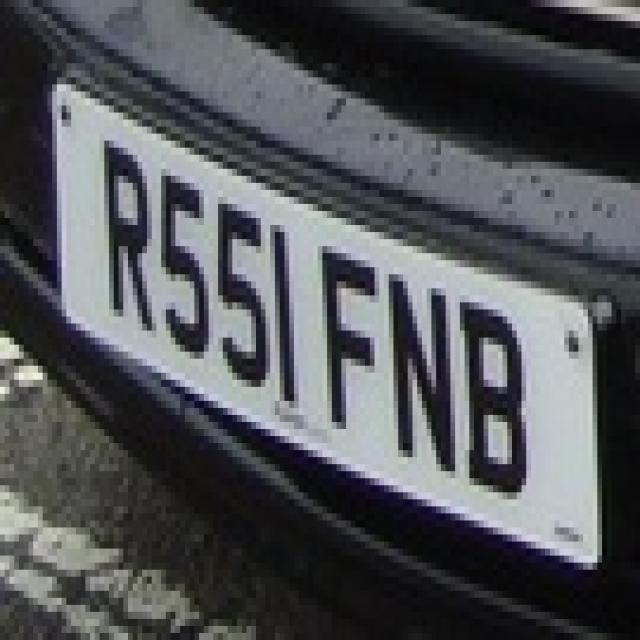licenseplate: (30, 23, 626, 597)
